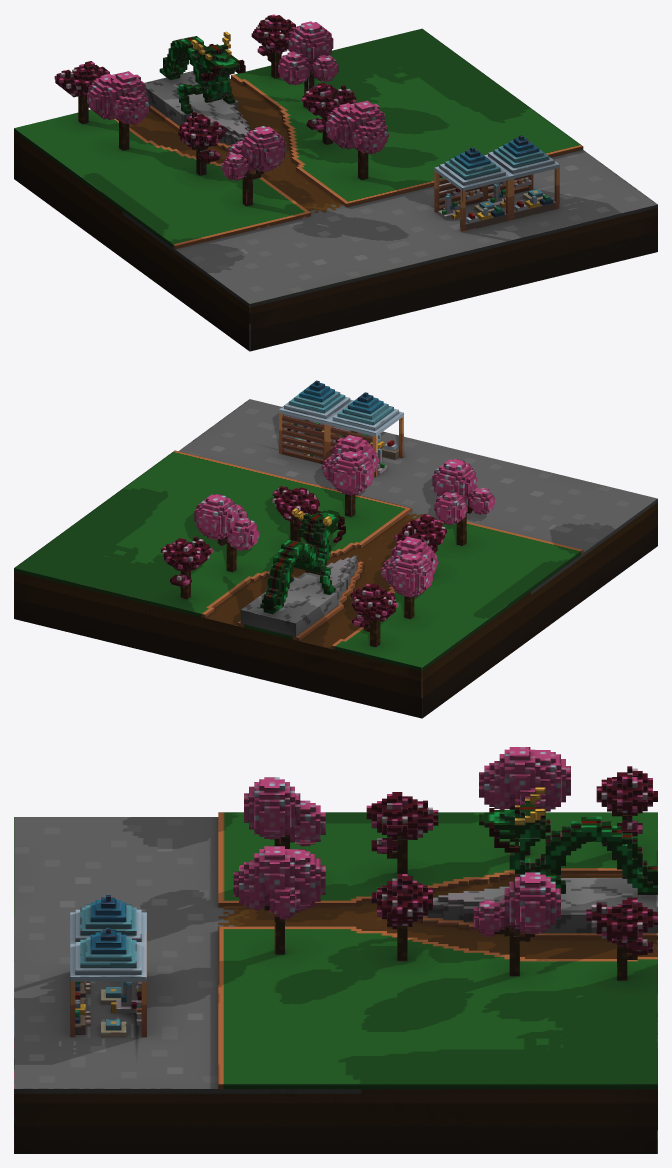
3 renders of one model, top to bottom at view 1: azimuth 30°, elevation 25°; view 2: azimuth 150°, elevation 25°; view 3: azimuth 270°, elevation 25°, orthographic. The views are drawn at different scales.
Parts seen in each view (by area): view 1: _C; view 2: _C; view 3: _C.
Part boxes in pixels (x1,y1,x2,y2): _C: [14, 14, 657, 351]; _C: [14, 380, 657, 718]; _C: [14, 747, 657, 1153].
Bounding box in the file's own units: 126 × 126 × 40.
Materials: 1 (1 with a texture image).
